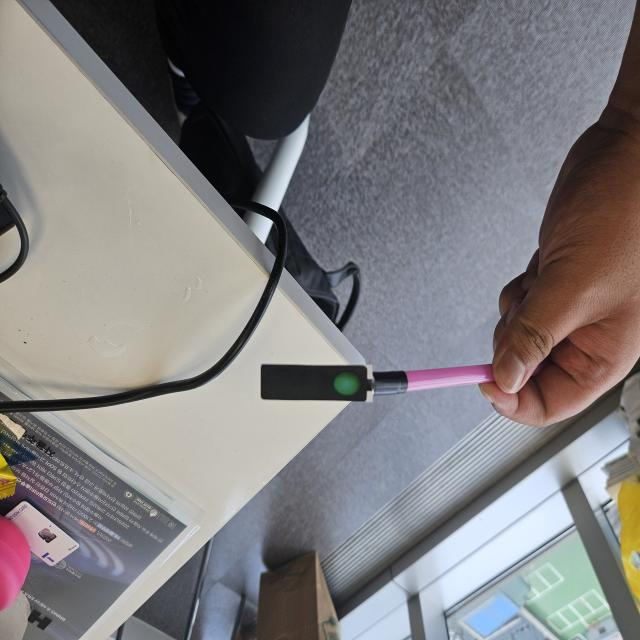traffic light: (260, 365, 376, 404)
